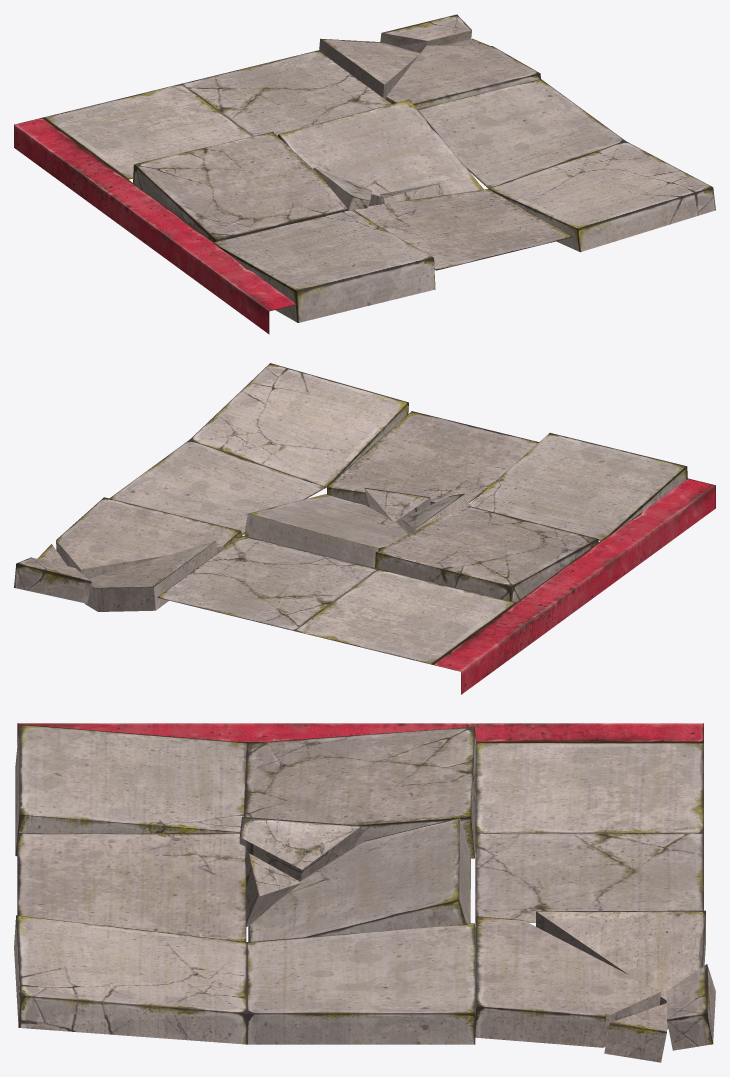
The model's file is sidewalk02_C.fbx.
3 renders of one model, top to bottom at view 1: azimuth 30°, elevation 25°; view 2: azimuth 150°, elevation 25°; view 3: azimuth 270°, elevation 25°, orthographic. The views are drawn at different scales.
Visible parts, largest first — view 1: sidewalk02_C; view 2: sidewalk02_C; view 3: sidewalk02_C.
Boxes of the visible parts, box(x1,y1,x2,y2) form: sidewalk02_C: box(14, 14, 715, 334); sidewalk02_C: box(14, 363, 715, 694); sidewalk02_C: box(14, 723, 715, 1062).
Size of the model in its own units: 303 by 43.61 by 307.
